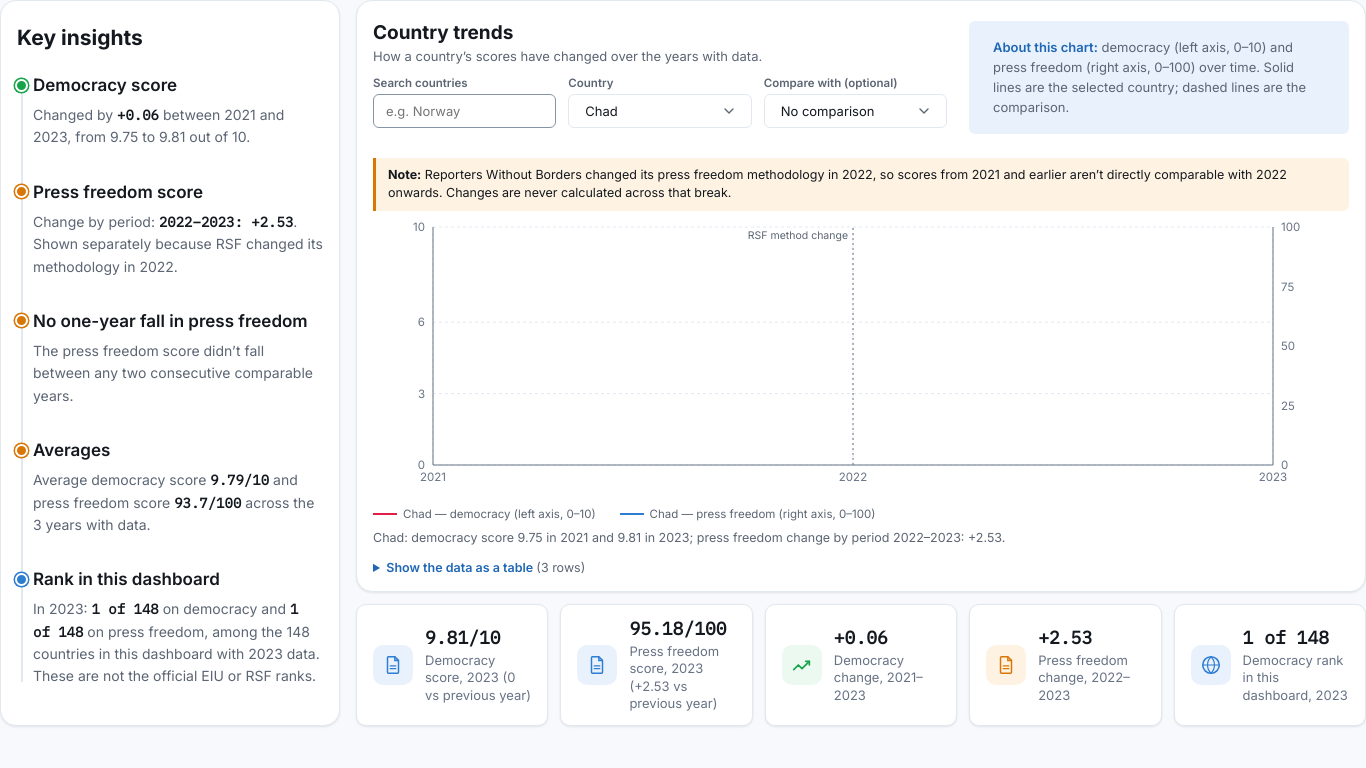
Test case: Country trends › comparing with a second country loads it and adds it to the chart table and legend
The image size is (1366, 768).
Expected: the heading "Rank in this dashboard" is shown, left=33, top=569, right=220, bottom=589
Select "Norway" in the dropdown labelled "Compare with (optional)" at (855, 111), box left=764, top=94, right=947, bottom=128
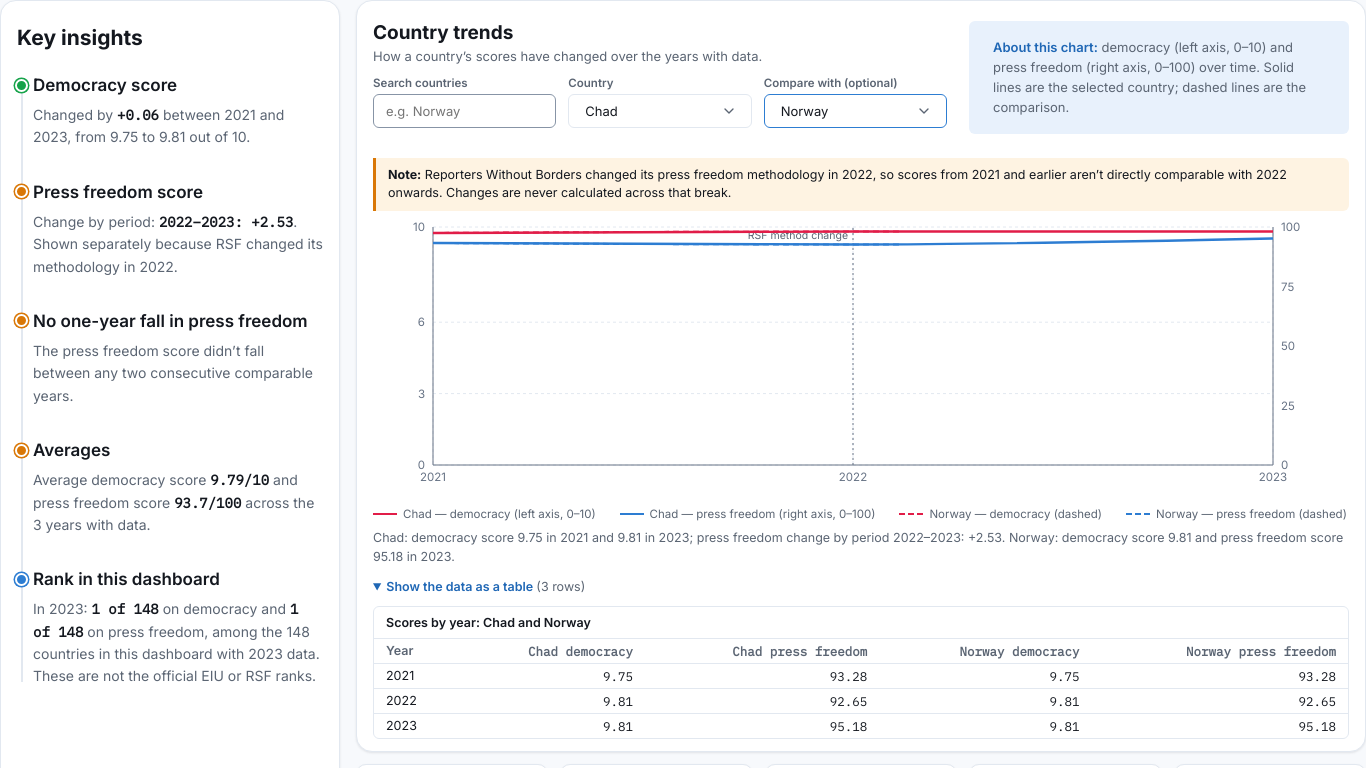
Expected: the list item "Norway — democracy (dashed)" is shown, left=899, top=507, right=1102, bottom=521
Expected: the column heading "Norway democracy" is shown, left=879, top=638, right=1092, bottom=663
